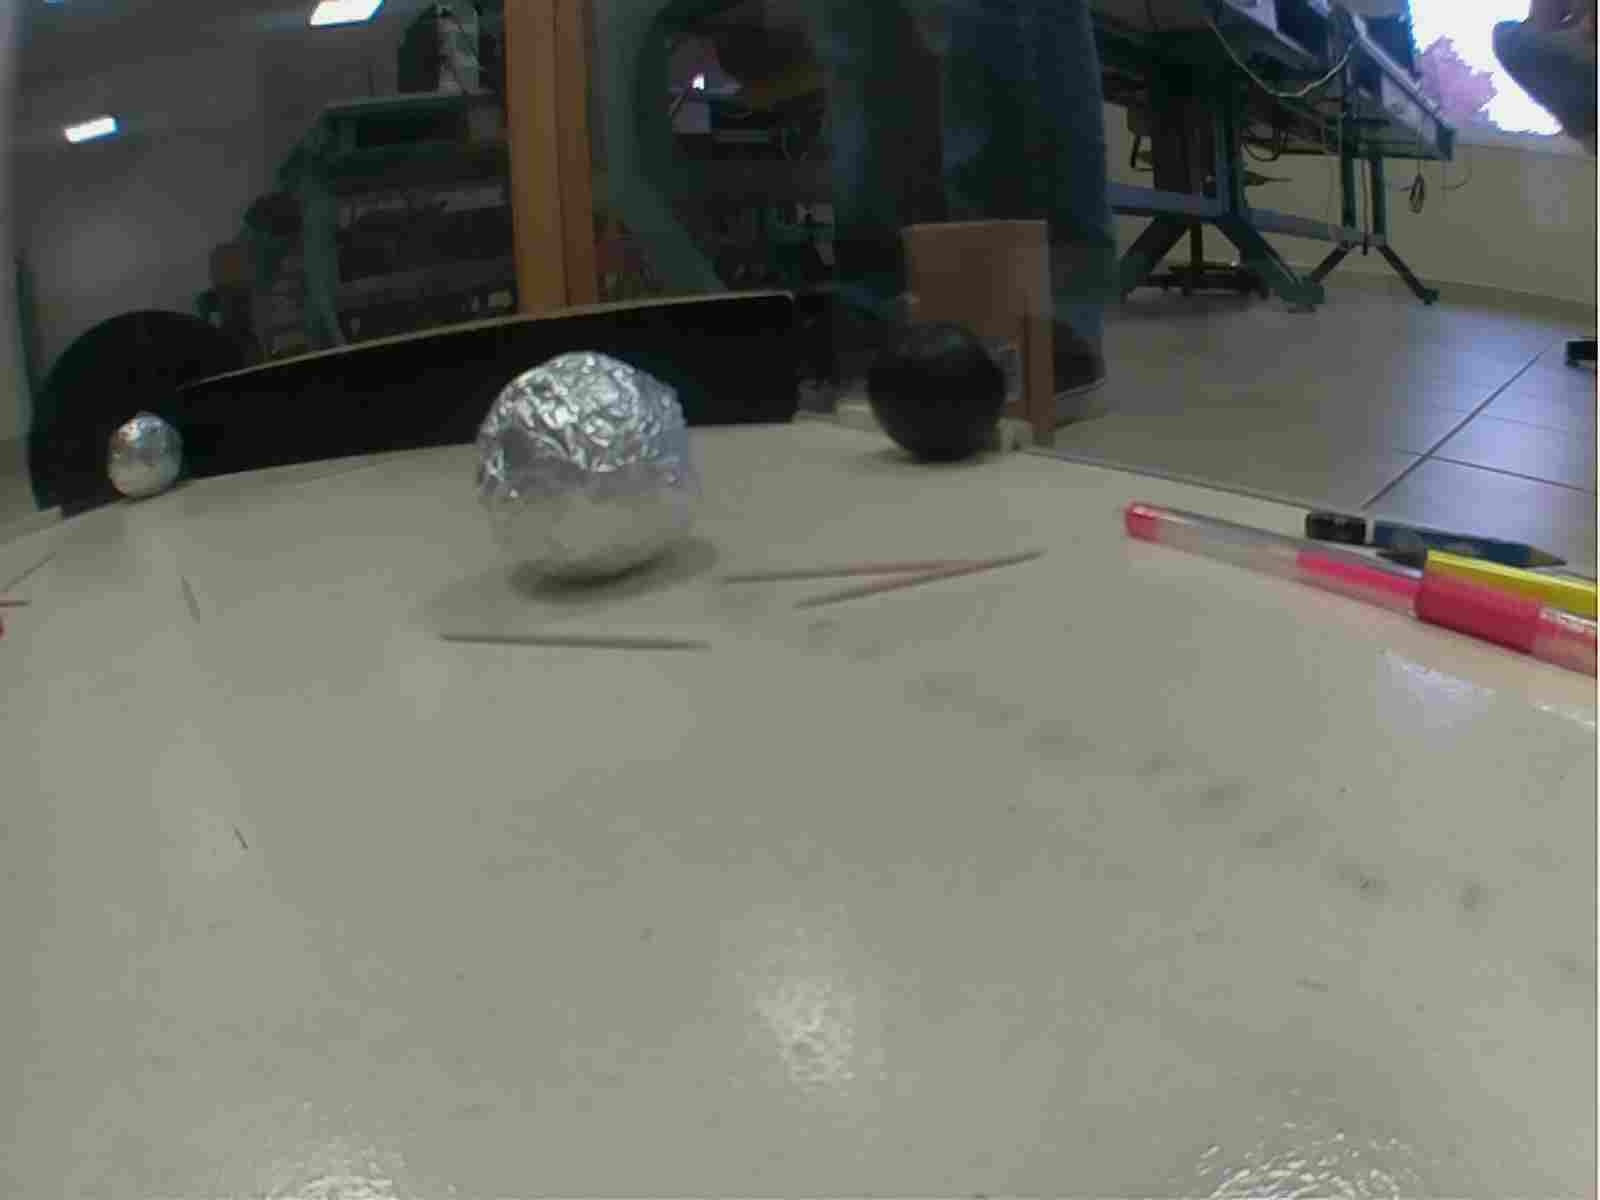bianca: (465, 347, 703, 581), (105, 413, 188, 502)
nera: (855, 316, 1014, 469)
